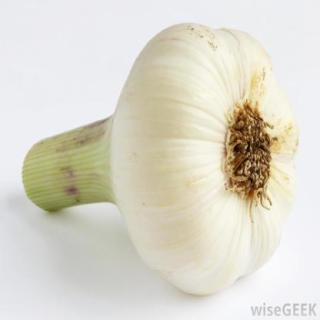Bawang Putih: (113, 23, 300, 297)
